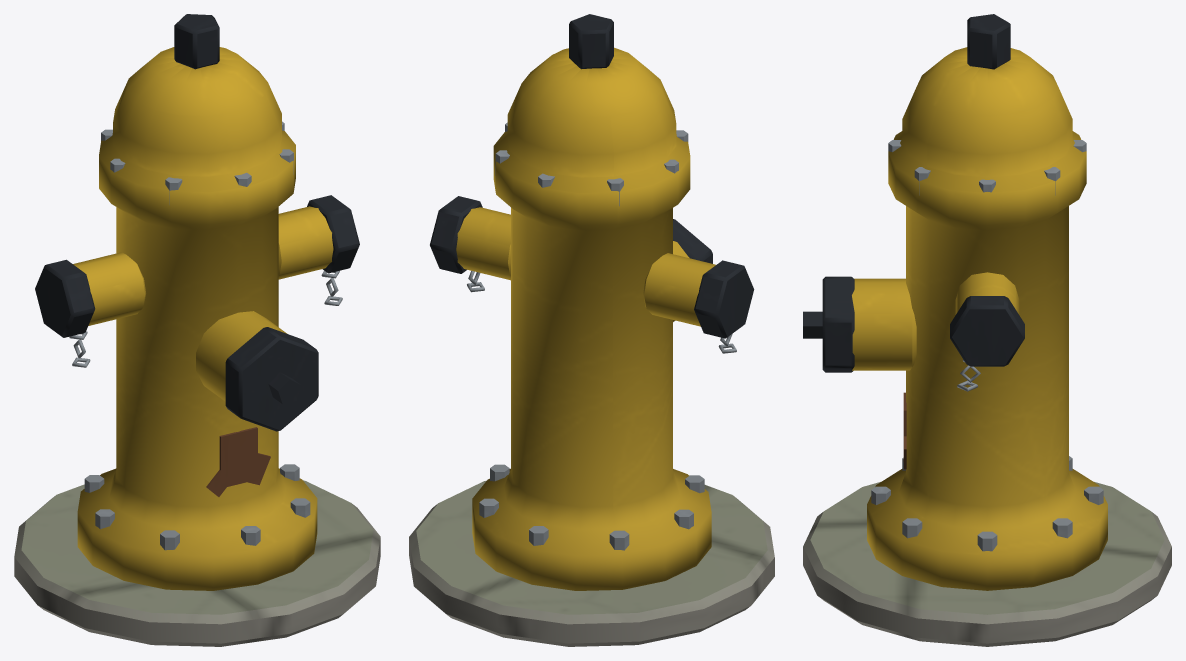
File: fire_hydrant.glb
The picture shows the model from 3 angles, left to right: view 1: azimuth 30°, elevation 25°; view 2: azimuth 150°, elevation 25°; view 3: azimuth 270°, elevation 25°; orthographic projection.
Visible parts, largest first — view 1: fire_hydrant; view 2: fire_hydrant; view 3: fire_hydrant.
Boxes of the visible parts, x1=… form: fire_hydrant: x1=14, y1=14, x2=380, y2=646; fire_hydrant: x1=409, y1=14, x2=774, y2=646; fire_hydrant: x1=803, y1=14, x2=1171, y2=646.
Size of the model in its own units: 0.52 by 0.855 by 0.52.
6 materials, 6 textured.
